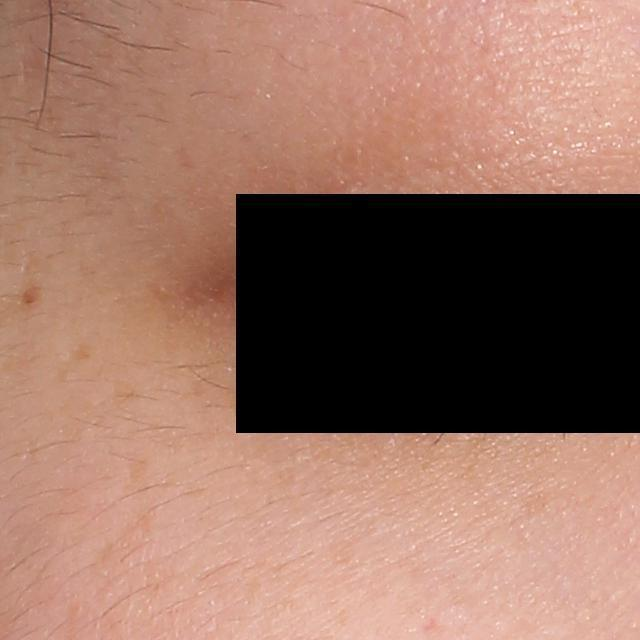melasma: (92, 509, 151, 565), (69, 339, 98, 367)
